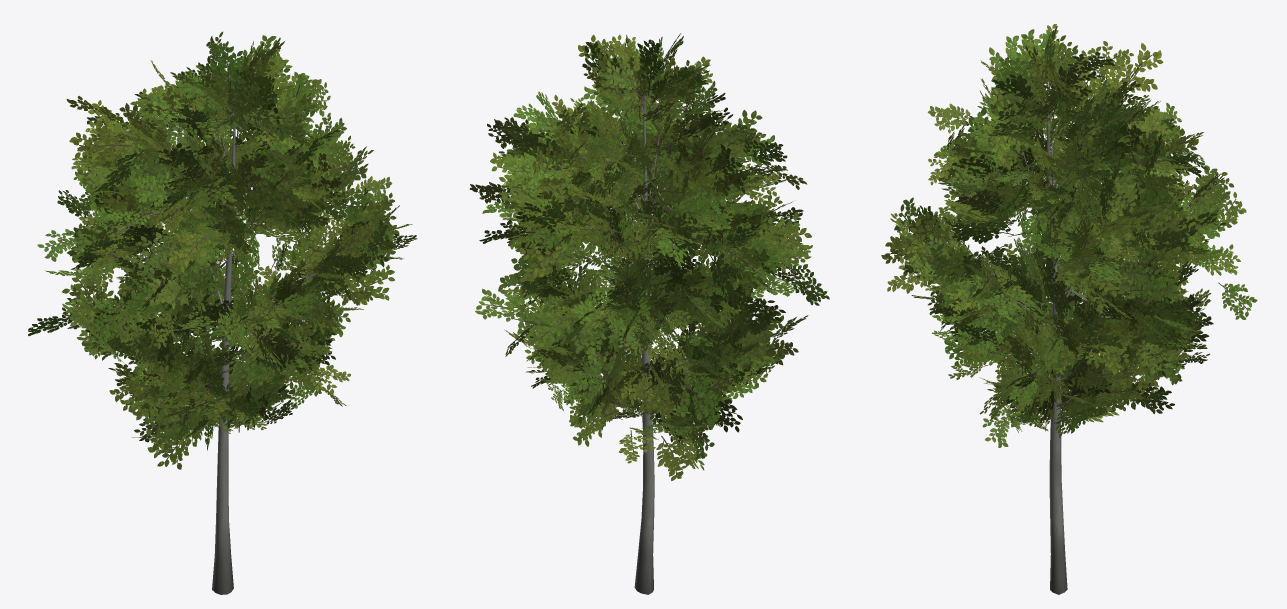
The model's file is buk_mlady.glb.
3 views of the same model, side by side, from view 1: azimuth 30°, elevation 25°; view 2: azimuth 150°, elevation 25°; view 3: azimuth 270°, elevation 25° (orthographic).
Parts seen in each view (by area): view 1: buk_mlady; view 2: buk_mlady; view 3: buk_mlady.
Boxes of the visible parts, x1=… form: buk_mlady: x1=28, y1=31, x2=417, y2=594; buk_mlady: x1=469, y1=33, x2=829, y2=594; buk_mlady: x1=881, y1=24, x2=1257, y2=594.
Bounding box in the file's own units: 5.49 × 8.33 × 5.29.
2 materials, 2 textured.
